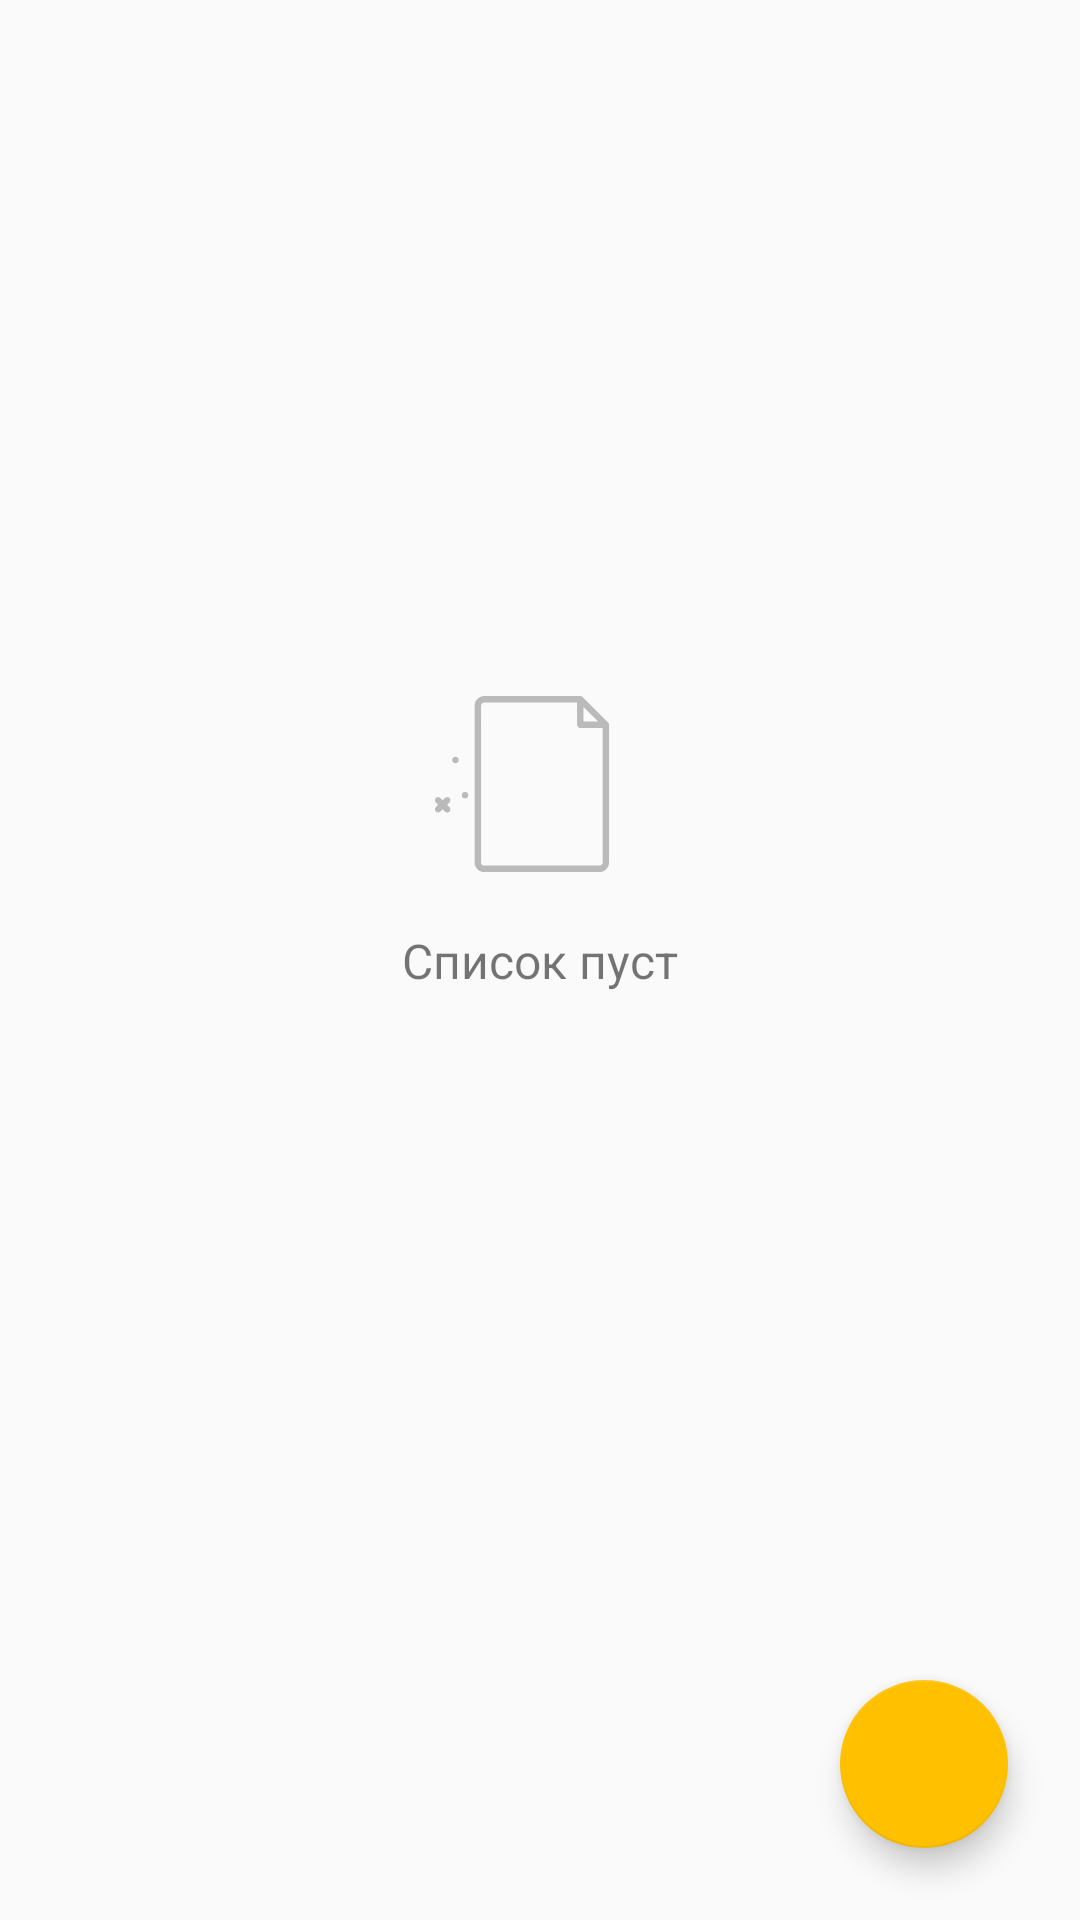

Named icons in this screenshot (1080×1920) and their centers, [x,y]:
empty: [522,784]
